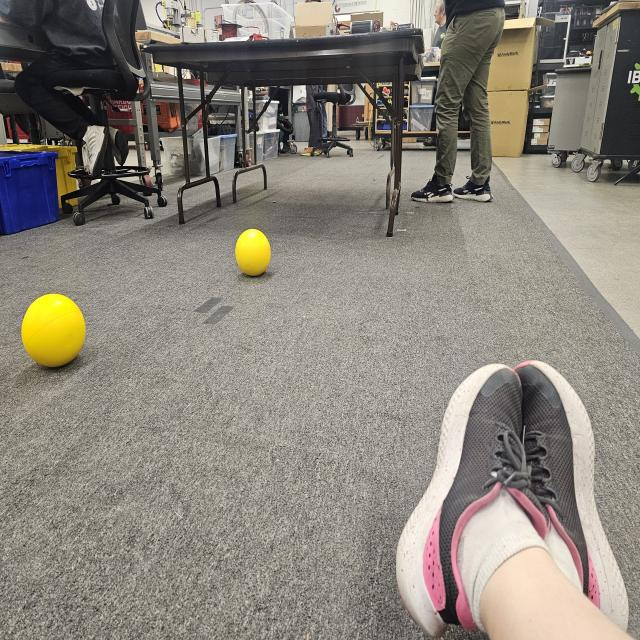Fuel: (21, 293, 85, 368), (236, 228, 271, 278)
